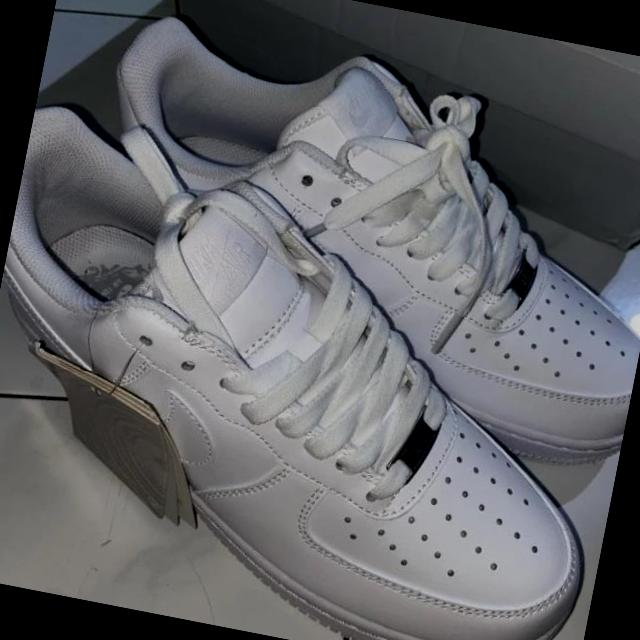nike_original_airforce: (0, 103, 640, 640), (57, 5, 640, 478)
